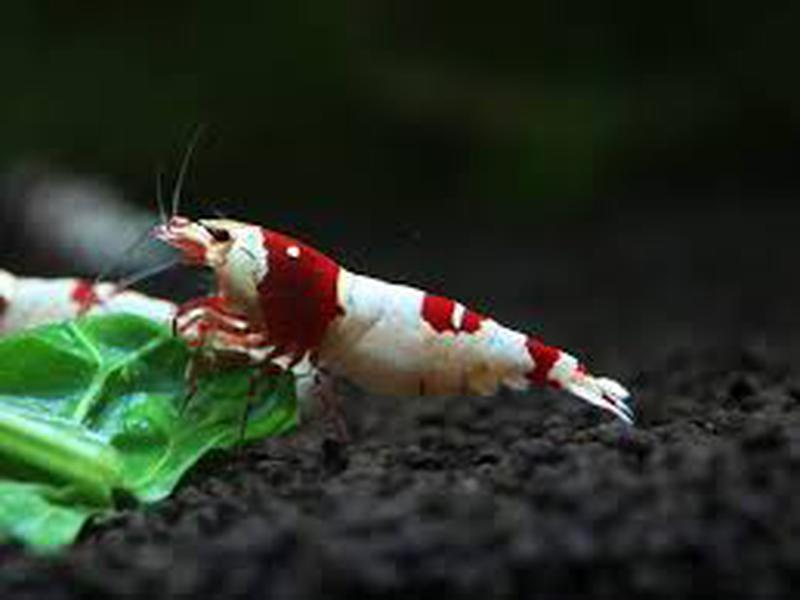shrimp: (151, 209, 639, 424)
